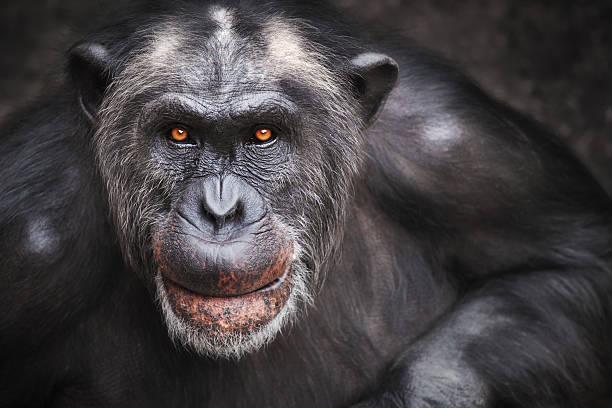chimpanzee: (38, 4, 450, 386)
